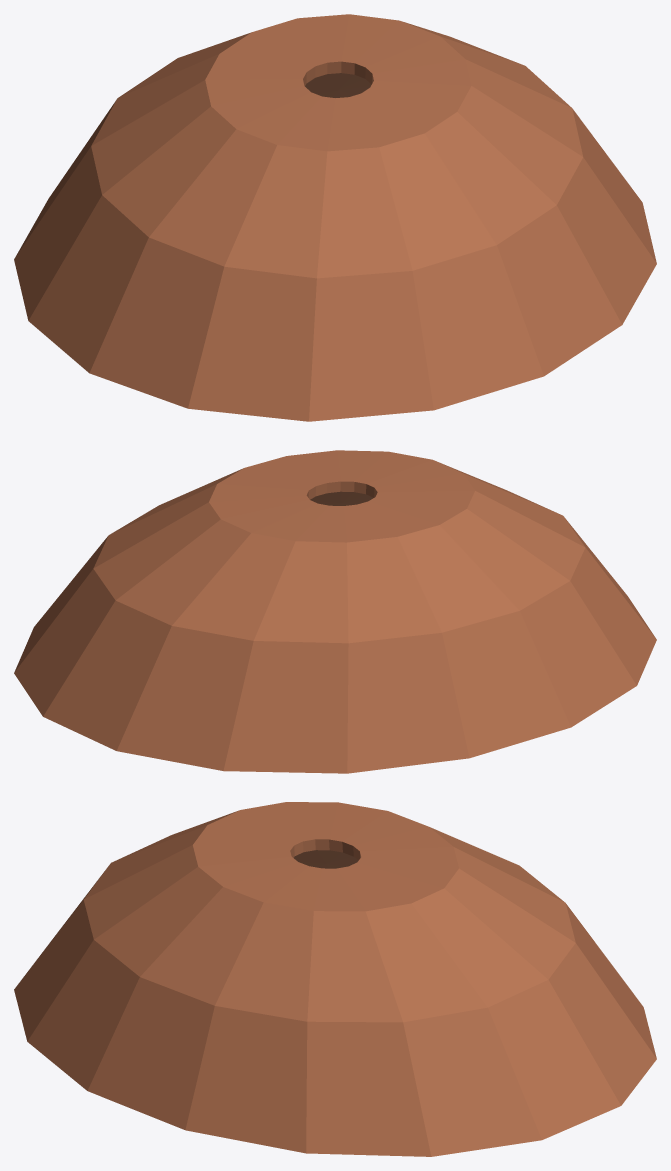
The model's file is coconut_floor2.glb.
3 renders of one model, top to bottom at view 1: azimuth 30°, elevation 25°; view 2: azimuth 150°, elevation 25°; view 3: azimuth 270°, elevation 25°, orthographic. The views are drawn at different scales.
Visible parts, largest first — view 1: Coconutfloor2-col; view 2: Coconutfloor2-col; view 3: Coconutfloor2-col.
Boxes of the visible parts, <box> form: Coconutfloor2-col: <box>14,14,656,421</box>; Coconutfloor2-col: <box>14,450,656,773</box>; Coconutfloor2-col: <box>14,802,656,1156</box>.
Bounding box in the file's own units: 0.4983 × 0.1492 × 0.5109.
1 material, 1 textured.
